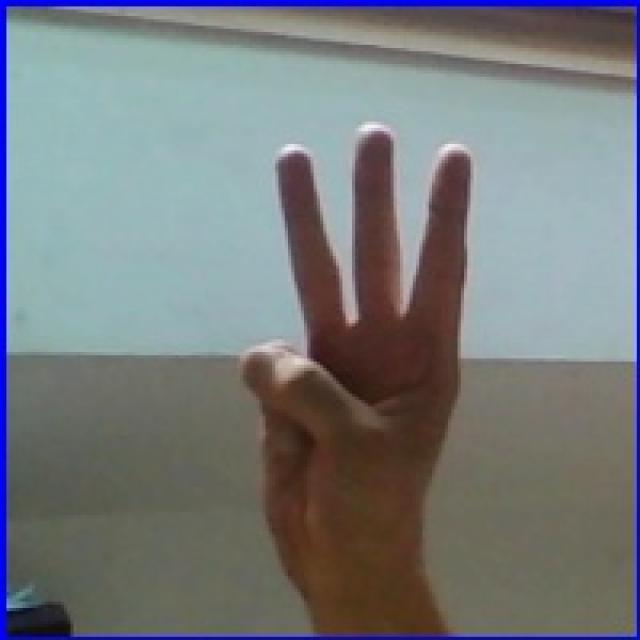Letra-W: (210, 116, 506, 598)
